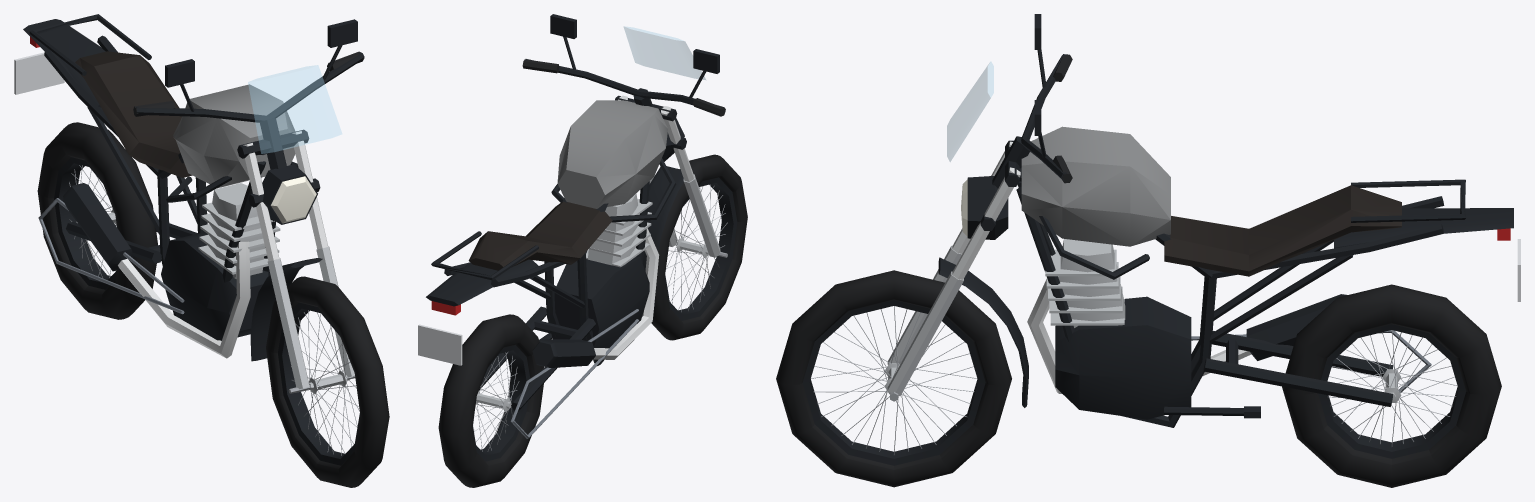
Rendered from royal_enfield_himalayan.far.glb.
3 renders of one model, left to right at view 1: azimuth 30°, elevation 25°; view 2: azimuth 150°, elevation 25°; view 3: azimuth 270°, elevation 25°, orthographic. The views are drawn at different scales.
Parts seen in each view (by area): view 1: royal_enfield_himalayan, steer, front_wheel, rear_wheel, swingarm; view 2: royal_enfield_himalayan, rear_wheel, steer, front_wheel, swingarm; view 3: royal_enfield_himalayan, rear_wheel, front_wheel, steer, swingarm, side_stand.
Part boxes in pixels (<box>): royal_enfield_himalayan: <box>14,14,298,358</box>; steer: <box>133,19,364,393</box>; front_wheel: <box>266,276,389,487</box>; rear_wheel: <box>37,122,157,319</box>; swingarm: <box>38,198,197,314</box>; royal_enfield_himalayan: <box>418,88,676,367</box>; rear_wheel: <box>438,314,543,487</box>; steer: <box>522,14,727,306</box>; front_wheel: <box>651,154,747,340</box>; swingarm: <box>479,306,638,438</box>; royal_enfield_himalayan: <box>992,126,1520,427</box>; rear_wheel: <box>1282,284,1501,487</box>; front_wheel: <box>776,270,1011,487</box>; steer: <box>887,14,1072,407</box>; swingarm: <box>1191,330,1431,406</box>; side_stand: <box>1164,406,1260,418</box>.
Size of the model in its own units: 0.8397 by 1.37 by 2.19.
